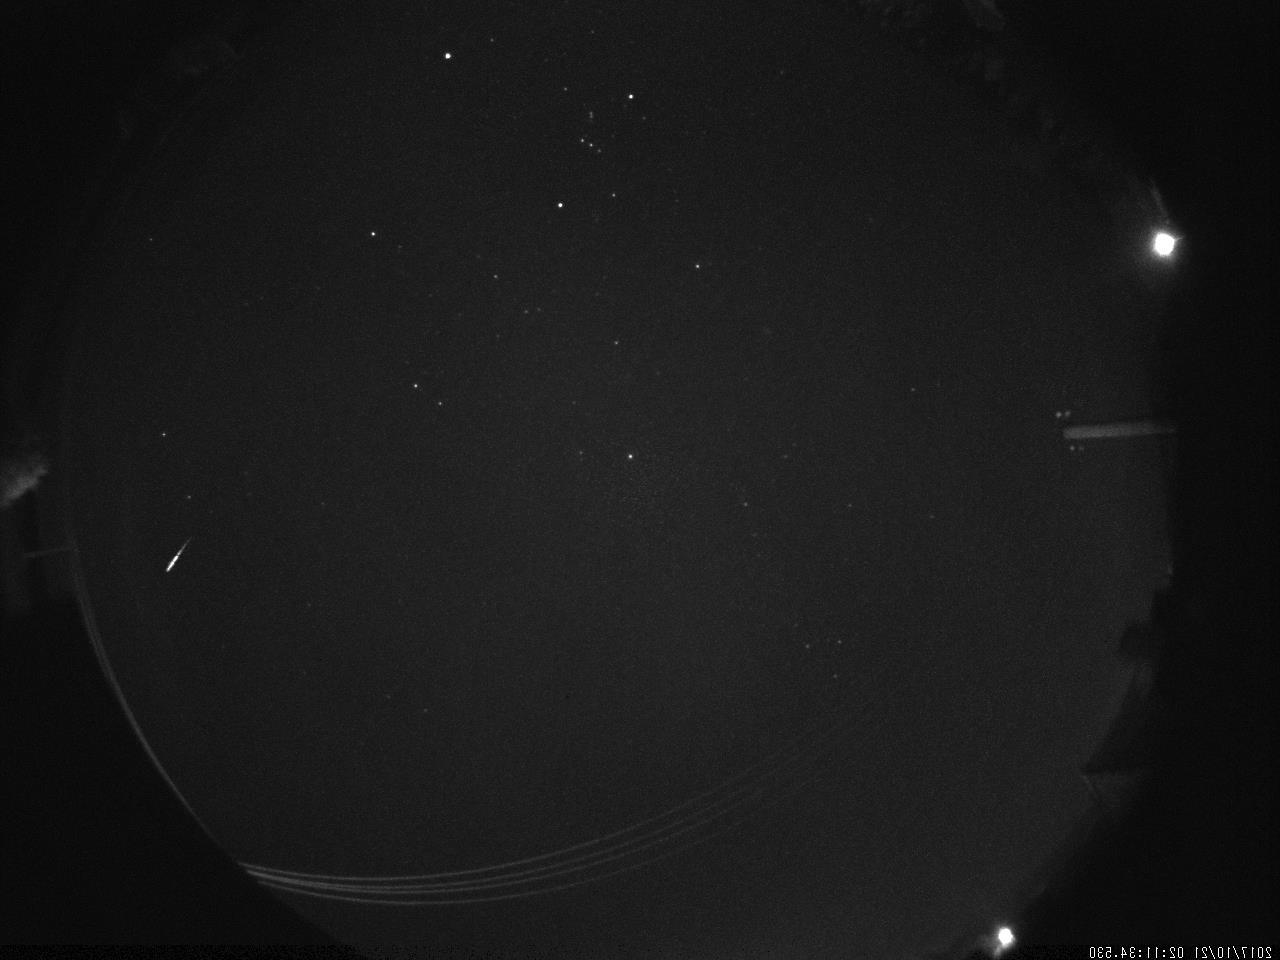meteor: (156, 534, 200, 585)
